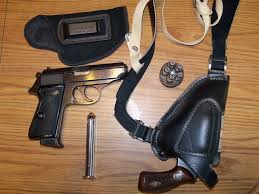gun: (26, 61, 130, 150), (137, 97, 222, 193)
